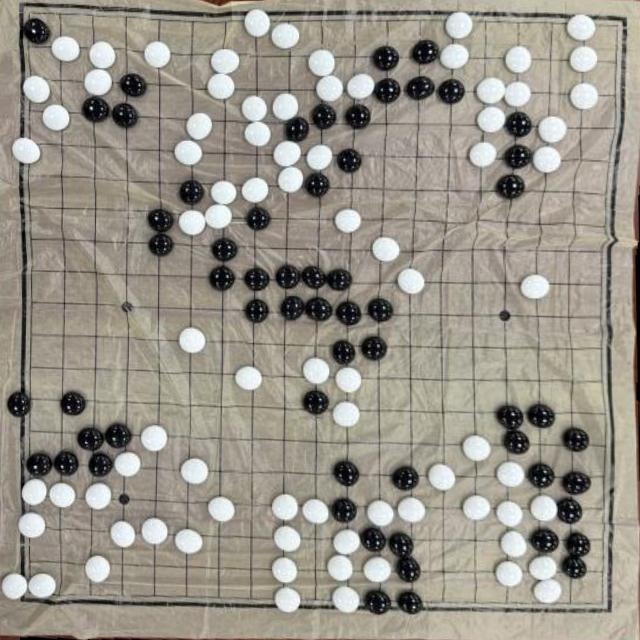blackstone: (82, 96, 110, 123), (530, 528, 559, 554), (496, 404, 524, 430), (411, 39, 439, 65), (372, 45, 400, 71), (22, 18, 50, 44), (496, 174, 525, 199), (360, 527, 387, 553), (105, 423, 132, 449), (556, 498, 583, 524), (312, 103, 338, 130), (504, 144, 532, 169), (304, 172, 330, 198), (112, 102, 138, 128), (388, 532, 414, 558), (506, 111, 532, 137), (565, 532, 591, 558), (305, 297, 332, 322), (392, 466, 419, 491), (406, 76, 434, 100), (361, 336, 387, 361), (210, 266, 236, 291), (367, 298, 393, 323), (336, 301, 362, 326), (503, 430, 529, 455), (88, 452, 114, 477), (333, 461, 359, 486), (528, 463, 554, 488), (26, 452, 52, 477), (77, 427, 103, 452), (374, 78, 400, 103), (438, 79, 464, 104), (285, 116, 310, 142), (60, 391, 86, 416), (563, 427, 589, 452), (211, 238, 238, 262), (345, 104, 372, 128), (147, 208, 174, 232), (562, 472, 589, 496), (246, 206, 271, 231), (148, 233, 174, 257), (303, 390, 329, 414), (54, 450, 78, 476), (179, 180, 205, 204), (396, 556, 420, 582), (528, 404, 554, 428), (120, 73, 146, 97), (364, 590, 390, 614), (397, 591, 423, 615), (244, 299, 269, 323), (280, 296, 305, 320), (337, 148, 362, 172), (244, 267, 269, 291), (7, 392, 31, 417), (562, 556, 587, 580), (326, 268, 352, 291), (332, 340, 356, 364), (332, 499, 356, 523), (276, 264, 300, 288), (302, 266, 326, 289)
whitestone: (538, 115, 568, 144), (12, 136, 42, 164), (569, 82, 599, 110), (444, 12, 474, 40), (476, 77, 506, 105), (532, 146, 561, 174), (243, 9, 271, 38), (140, 424, 168, 452), (428, 463, 456, 491), (505, 46, 533, 74), (141, 518, 169, 546), (308, 49, 336, 77), (88, 41, 116, 69), (504, 80, 532, 108), (500, 530, 528, 558), (28, 572, 56, 600), (440, 43, 469, 70), (477, 106, 506, 133), (84, 69, 113, 96), (207, 73, 236, 100), (567, 14, 596, 41), (363, 556, 392, 583), (520, 274, 550, 300), (462, 436, 492, 462), (51, 36, 81, 62), (174, 528, 204, 554), (302, 357, 330, 384), (42, 105, 70, 132), (144, 41, 172, 68), (186, 112, 213, 140), (23, 75, 50, 103), (570, 46, 598, 73), (85, 482, 112, 510), (49, 482, 77, 509), (21, 478, 48, 506), (274, 525, 302, 552), (272, 93, 300, 120), (496, 500, 524, 527), (271, 557, 299, 584), (332, 586, 360, 613), (1, 572, 28, 600), (371, 236, 400, 262), (180, 458, 209, 484), (174, 140, 203, 166), (469, 142, 498, 168), (271, 23, 300, 49), (496, 462, 525, 488), (85, 555, 111, 584), (17, 512, 46, 538), (397, 497, 426, 523), (495, 561, 524, 587), (210, 49, 240, 74), (333, 401, 360, 428), (208, 496, 235, 523), (205, 203, 232, 230), (244, 121, 271, 148), (530, 495, 557, 522), (241, 95, 268, 122), (316, 75, 343, 102), (367, 500, 394, 527), (235, 366, 263, 392), (398, 268, 426, 294), (242, 176, 270, 202), (178, 210, 206, 236), (462, 495, 490, 521), (271, 494, 299, 520), (273, 141, 301, 167), (110, 520, 136, 548), (302, 498, 330, 524), (347, 73, 375, 99), (274, 587, 302, 613), (327, 555, 355, 581), (534, 578, 562, 604), (179, 328, 206, 354), (335, 208, 362, 234), (306, 144, 333, 170), (333, 529, 360, 555), (210, 180, 238, 205), (336, 367, 362, 393), (278, 167, 304, 193), (114, 452, 141, 477), (528, 556, 556, 580)
